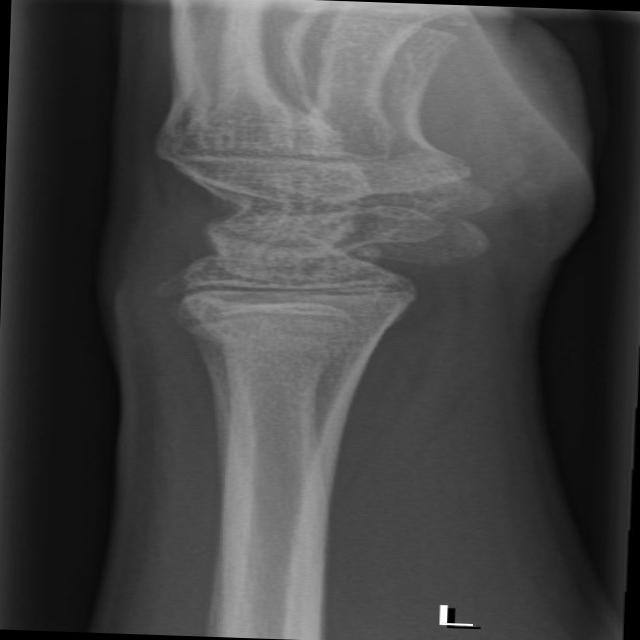fracture: (168, 290, 420, 344), (157, 265, 430, 308)
